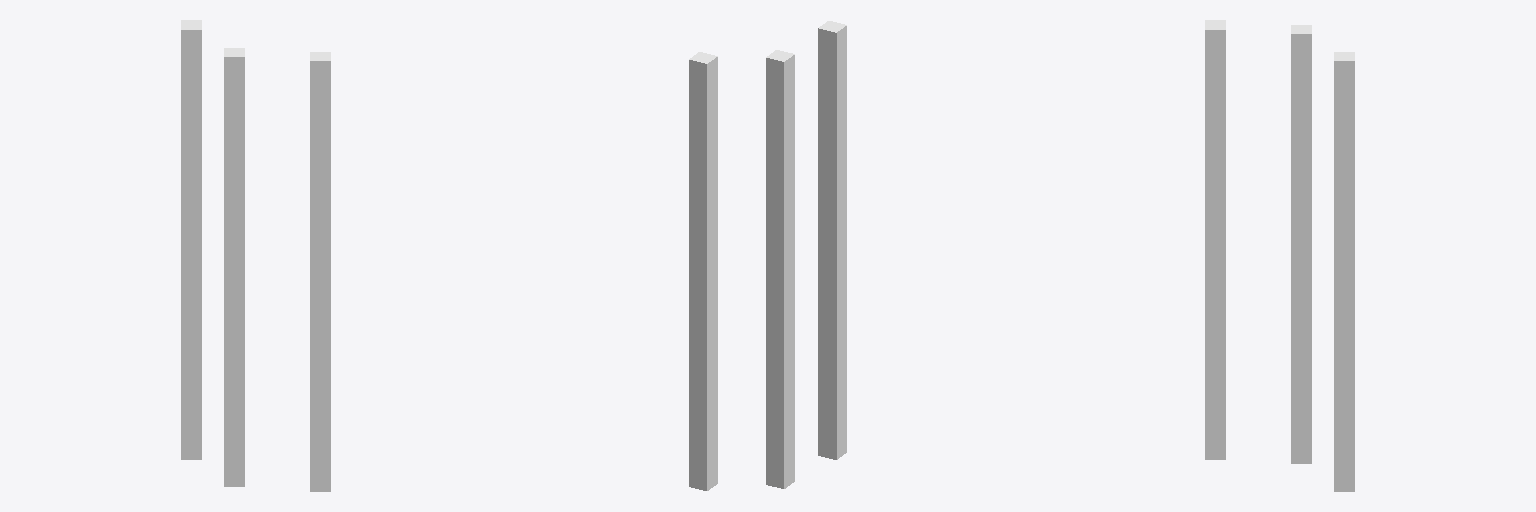
URDF robot description (pillars):
<robot name="pillars">
	<link name="_name">
		<visual>
			<origin xyz="-0.9333333366666668 0.26666667333333327 -2e-08" rpy="0 0 0" />
			<geometry>
				<mesh filename="pillars/pillars.obj" scale="1.0 1.0 1.0" />
			</geometry>
			<material name="texture">
				<color rgba="1.0 1.0 1.0 1.0" />
			</material>
		</visual>
		<collision>
			<geometry>
				<mesh filename="pillars/pillars_vhacd.obj" scale="1.0 1.0 1.0" />
			</geometry>
		<origin xyz="-0.9333333366666668 0.26666667333333327 -2e-08" rpy="0 0 0" /></collision>
		<inertial>
			<mass value="1.0" />
			<inertia ixx="1.0" ixy="0.0" ixz="0.0" iyy="1.0" iyz="0.0" izz="1.0" />
		</inertial>
	</link>
</robot>

--- What the picture shows (computed from the rendered views, not written in the file) ---
The picture shows the robot from 3 angles, left to right: view 1: azimuth 90°, elevation 25°; view 2: azimuth 150°, elevation 25°; view 3: azimuth 270°, elevation 25°; orthographic projection.
Robot: pillars — 1 links, 0 joints (none); root link _name; default pose: every joint at zero.
Links seen in each view (by area): view 1: _name; view 2: _name; view 3: _name.
Boxes of the visible links, bbox=[...] form: _name: bbox=[181, 20, 330, 491]; _name: bbox=[689, 21, 846, 490]; _name: bbox=[1205, 20, 1354, 491].
Size in the robot's own frame: 0.45 by 0.7 by 2.2 metres.
Meshes: 1 distinct files referenced, 1 mesh visuals loaded (1 OBJ).